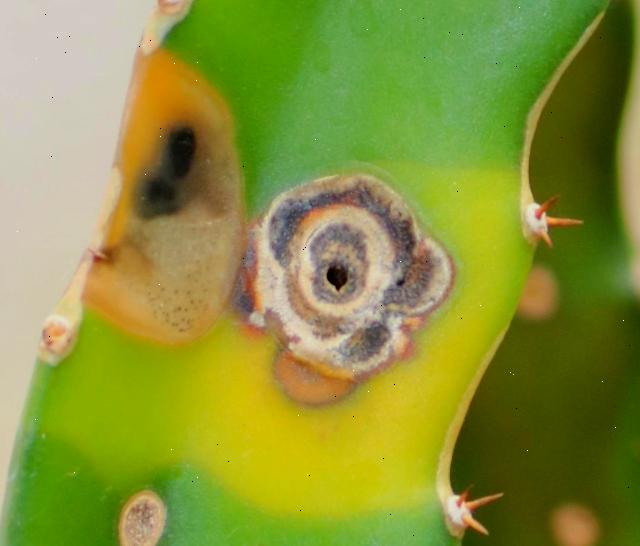stemcanker: (231, 166, 457, 410), (64, 62, 248, 350)
